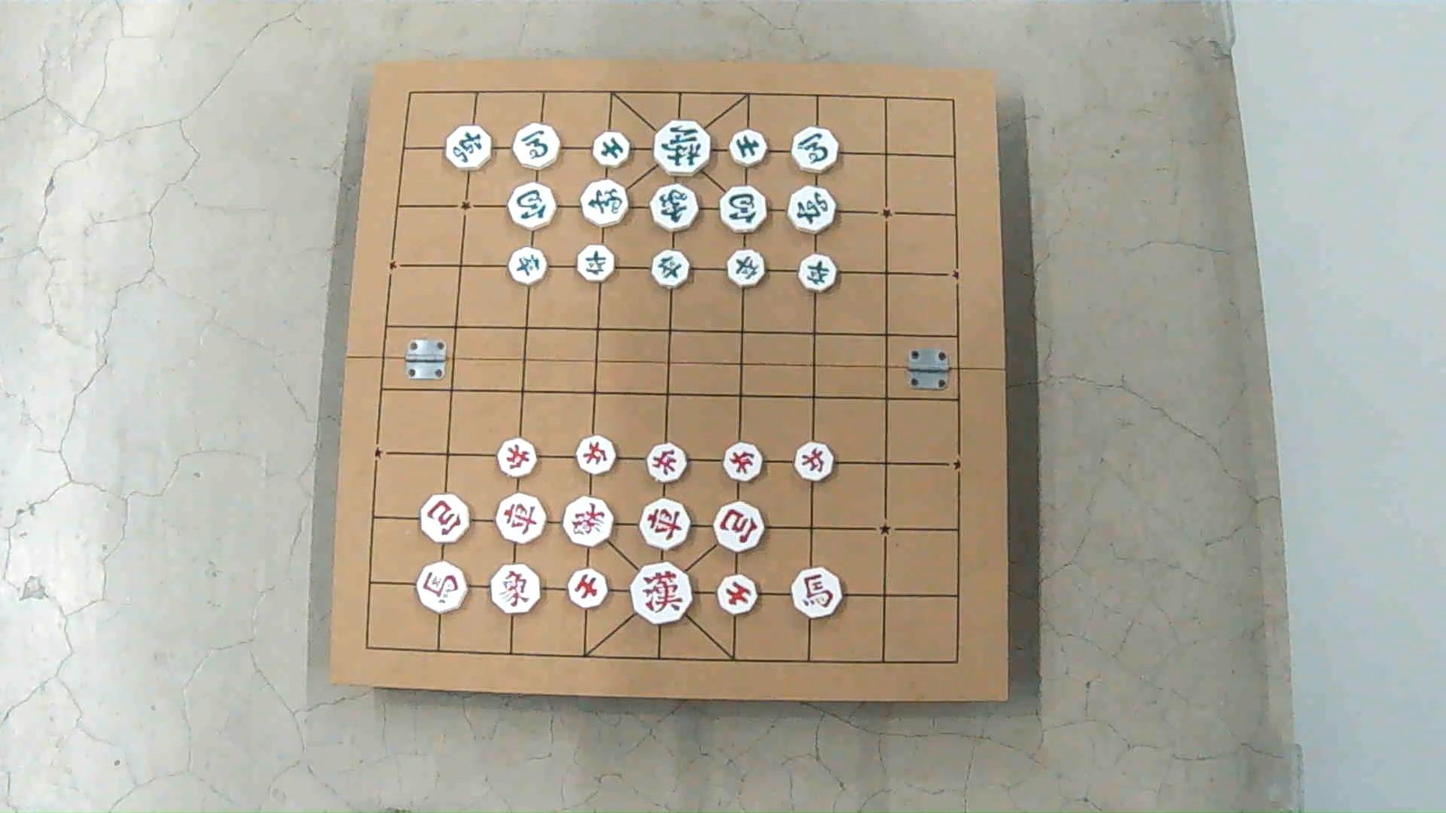cha_green: (789, 185, 838, 233), (446, 125, 493, 170)
cha_red: (496, 493, 547, 544), (640, 499, 691, 549)
jol_green: (799, 254, 838, 292), (508, 246, 547, 284), (651, 250, 690, 288), (728, 249, 766, 287), (578, 245, 615, 282)
jol_red: (647, 443, 687, 483), (723, 442, 763, 482), (497, 438, 538, 477), (795, 442, 834, 481), (576, 435, 615, 474)
ma_green: (513, 123, 561, 169), (792, 126, 840, 172)
ma_red: (416, 561, 468, 612), (792, 567, 841, 617)
po_green: (719, 184, 769, 233), (507, 183, 556, 229)
po_red: (714, 501, 765, 552), (420, 493, 471, 543)
sa_green: (728, 129, 768, 166), (591, 131, 631, 168)
sa_red: (717, 574, 757, 614), (569, 568, 608, 607)
sang_green: (650, 183, 700, 231), (580, 179, 629, 227)
sang_red: (490, 564, 541, 613), (563, 497, 614, 546)
wang_green: (654, 120, 712, 175)
wang_red: (631, 562, 693, 623)
